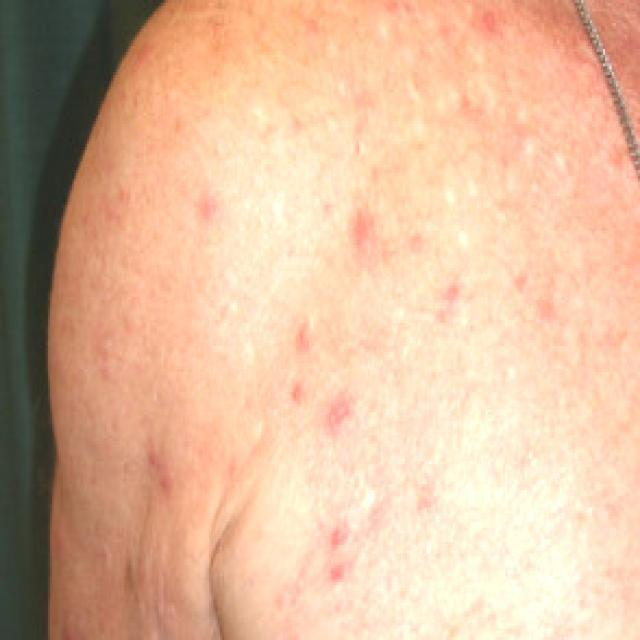Rosacea: (152, 11, 588, 586)
